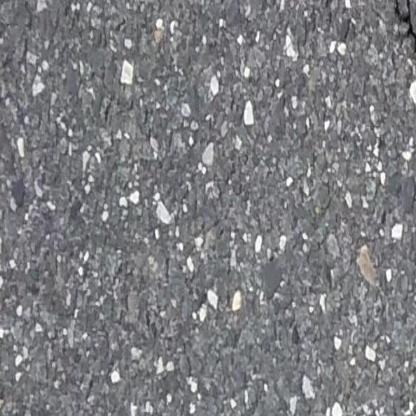Cracks: (367, 0, 416, 141)
